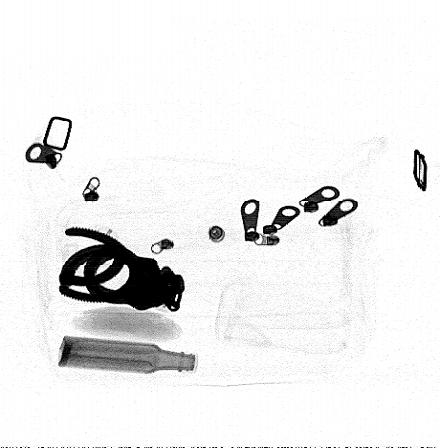HandCuffs: (58, 225, 188, 314)
